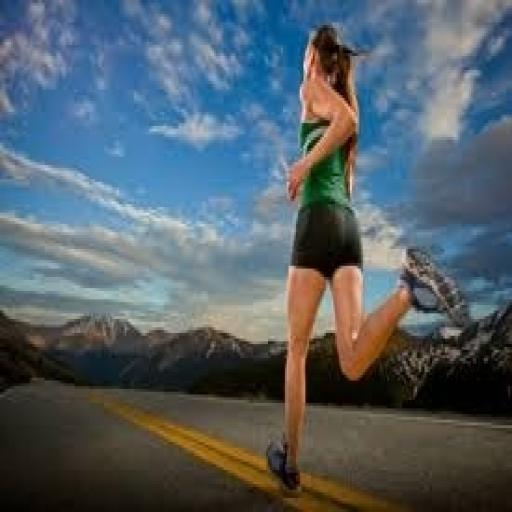running: (263, 22, 456, 501)
